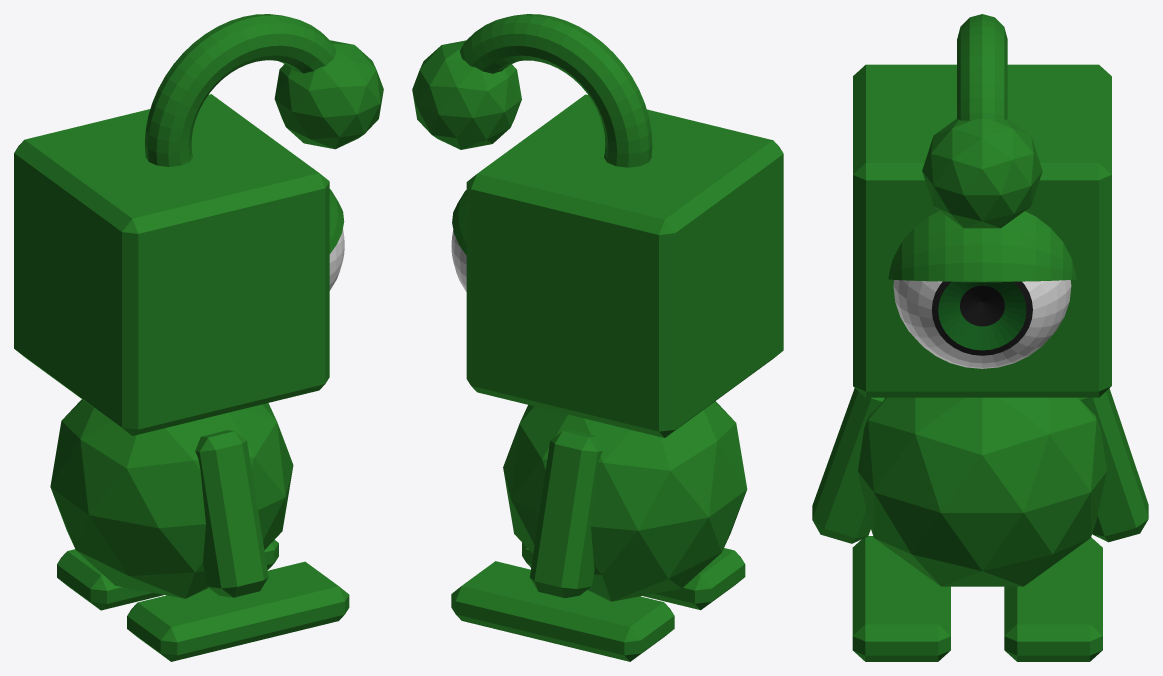
The model's file is alien.glb.
The picture shows the model from 3 angles, left to right: view 1: azimuth 30°, elevation 25°; view 2: azimuth 150°, elevation 25°; view 3: azimuth 270°, elevation 25°; orthographic projection. The views are drawn at different scales.
Visible parts, largest first — view 1: Cube, Icosphere, Cube.001, Torus, Cube.004, Icosphere.001, Cube.002, Sphere.001, Sphere; view 2: Cube, Icosphere, Cube.002, Torus, Cube.003, Icosphere.001, Cube.001, Sphere.001, Sphere; view 3: Cube, Icosphere, Sphere, Icosphere.001, Sphere.001, Cube.001, Cube.002, Cube.004, Cube.003, Torus.
Part boxes in pixels (x1,y1,x2,y2): Cube: (14, 94, 329, 435); Icosphere: (50, 399, 293, 598); Cube.001: (127, 561, 349, 661); Torus: (145, 14, 336, 166); Cube.004: (195, 430, 268, 597); Icosphere.001: (274, 40, 383, 149); Cube.002: (57, 539, 278, 610); Sphere.001: (329, 189, 344, 253); Sphere: (329, 229, 344, 290); Cube: (466, 94, 783, 437); Icosphere: (503, 401, 747, 601); Cube.002: (451, 561, 674, 661); Torus: (460, 14, 652, 167); Cube.003: (530, 429, 602, 598); Icosphere.001: (412, 40, 521, 149); Cube.001: (522, 542, 745, 610); Sphere.001: (452, 190, 466, 255); Sphere: (451, 230, 466, 291); Cube: (853, 64, 1111, 397); Icosphere: (858, 397, 1106, 586); Sphere: (893, 280, 1071, 368); Icosphere.001: (922, 119, 1042, 228); Sphere.001: (888, 211, 1076, 282); Cube.001: (852, 536, 950, 661); Cube.002: (1004, 537, 1102, 661); Cube.004: (812, 388, 884, 543); Cube.003: (1079, 388, 1148, 542); Torus: (957, 14, 1007, 120).
Bounding box in the file's own units: 2.96 × 5.26 × 2.6.
